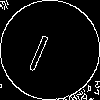I: (25, 25, 56, 73)
